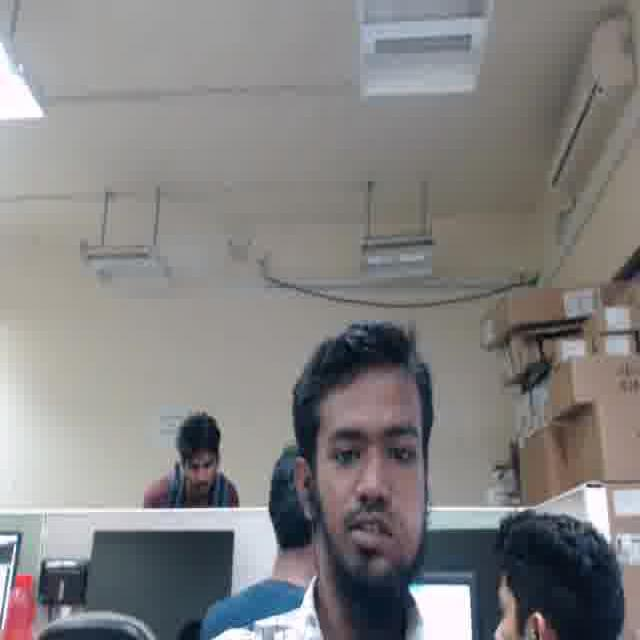Engaged: (314, 379, 427, 581)
